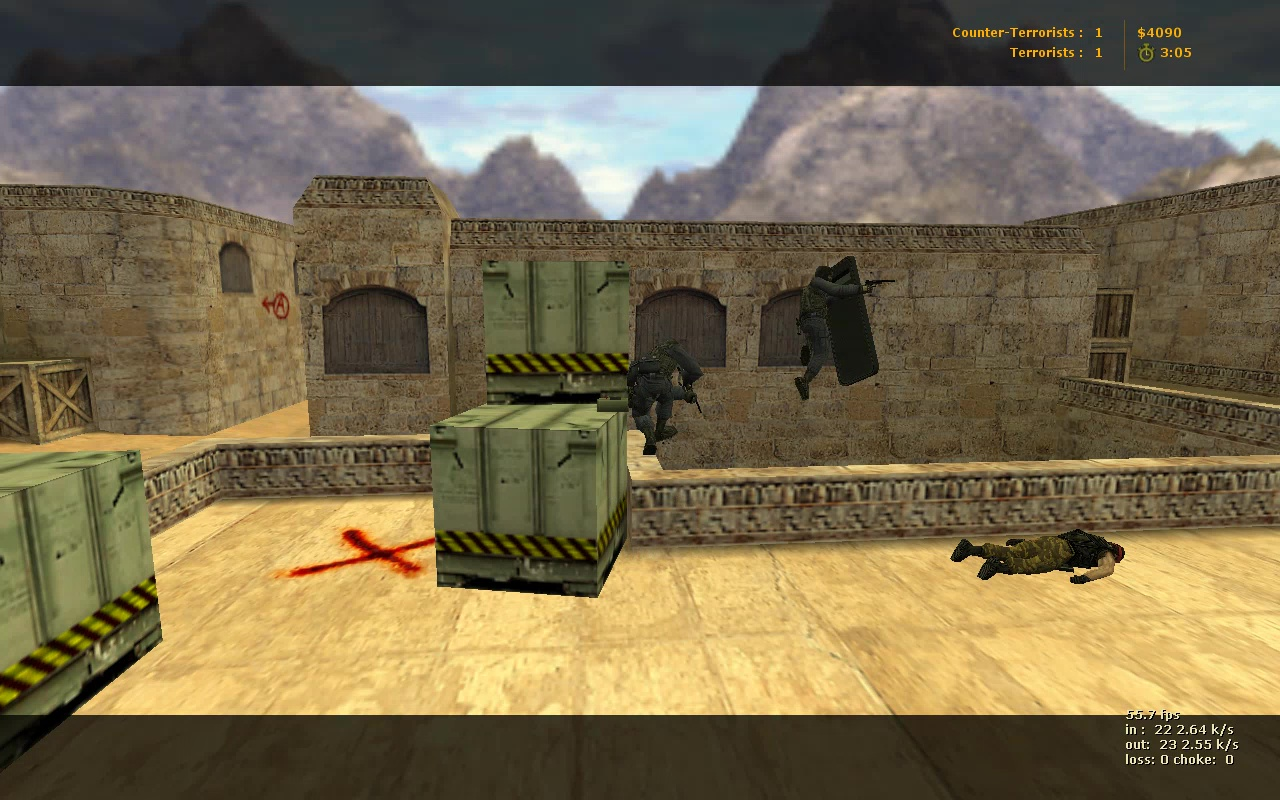ct: (790, 258, 881, 399), (629, 339, 706, 458)
dead: (943, 529, 1126, 581)
